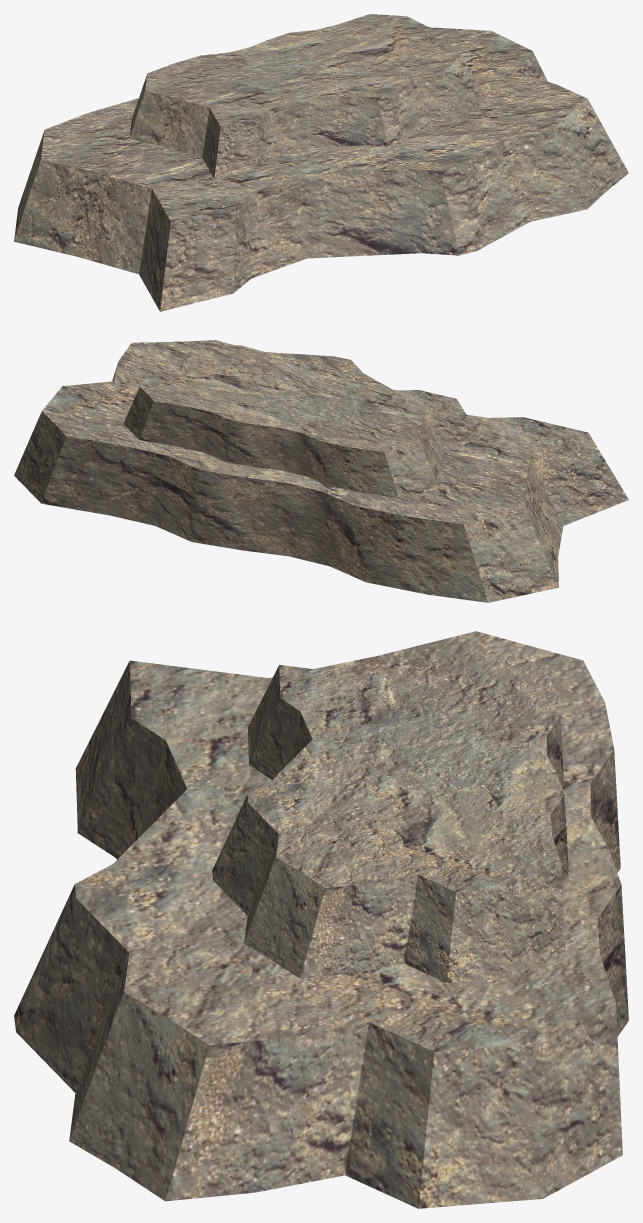
Rendered from rock_03.fbx.
The picture shows the model from 3 angles, top to bottom: view 1: azimuth 30°, elevation 25°; view 2: azimuth 150°, elevation 25°; view 3: azimuth 270°, elevation 25°; orthographic projection. The views are drawn at different scales.
Parts seen in each view (by area): view 1: pPlane1, pPlane11; view 2: pPlane1, pPlane11; view 3: pPlane1, pPlane11.
Part boxes in pixels (x1,y1,x2,y2): pPlane1: (14, 27, 628, 311); pPlane11: (129, 14, 486, 179); pPlane1: (14, 340, 628, 602); pPlane11: (123, 345, 479, 497); pPlane1: (14, 631, 628, 1208); pPlane11: (212, 647, 568, 982).
Size of the model in its own units: 18.94 by 3.85 by 10.4.
1 material, 1 textured.
